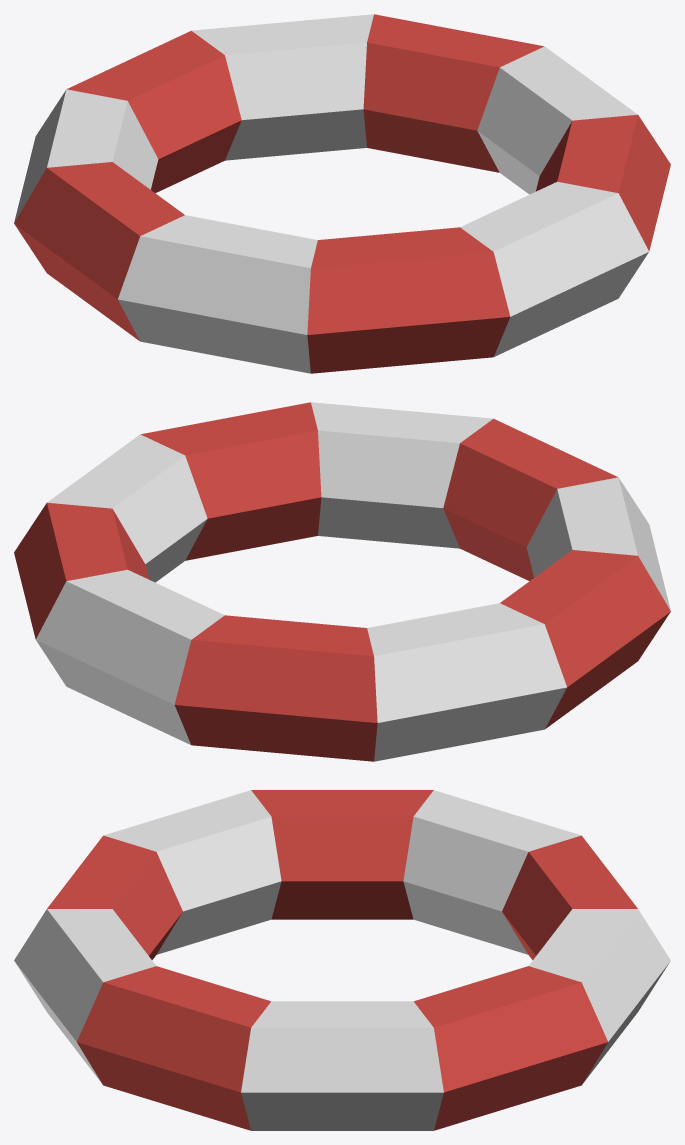
3 views of the same model, one above another, from view 1: azimuth 30°, elevation 25°; view 2: azimuth 150°, elevation 25°; view 3: azimuth 270°, elevation 25° (orthographic). The views are drawn at different scales.
Visible parts, largest first — view 1: Circle_02; view 2: Circle_02; view 3: Circle_02.
Boxes of the visible parts, <box> form: Circle_02: <box>14,14,670,373</box>; Circle_02: <box>14,402,670,761</box>; Circle_02: <box>14,790,670,1130</box>.
Size of the model in its own units: 52.16 by 9.5 by 54.84.
